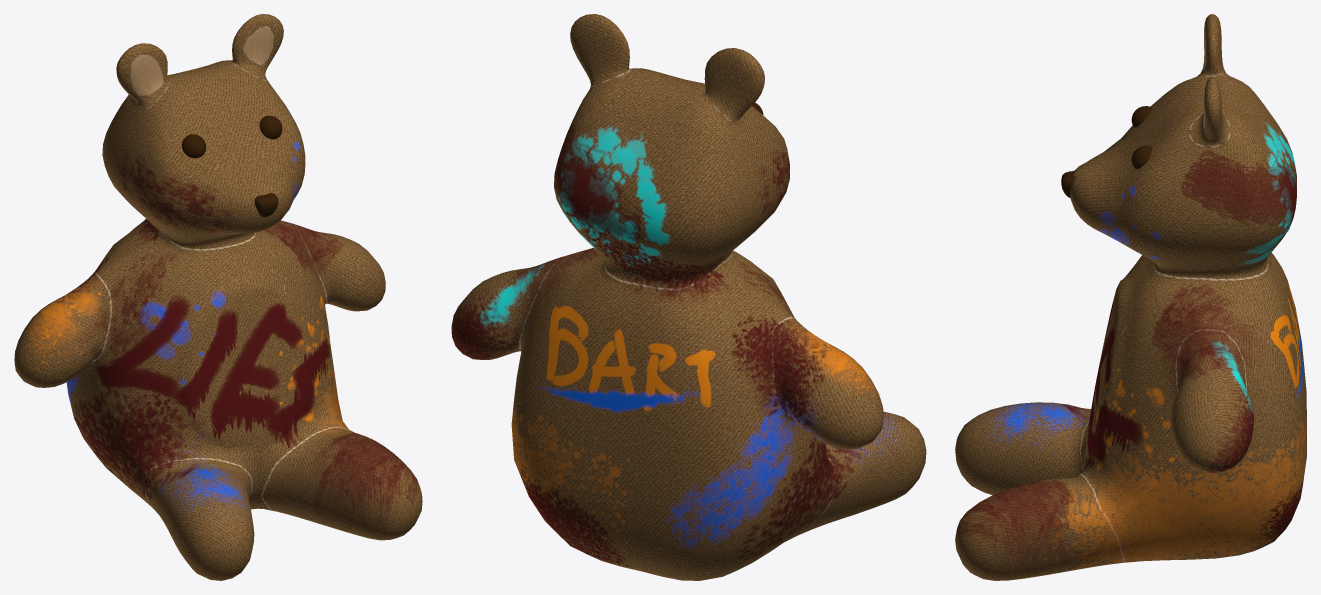
File: play_teddy.glb
3 renders of one model, left to right at view 1: azimuth 30°, elevation 25°; view 2: azimuth 150°, elevation 25°; view 3: azimuth 270°, elevation 25°, orthographic. The views are drawn at different scales.
Visible parts, largest first — view 1: TeddyBear; view 2: TeddyBear; view 3: TeddyBear.
Part boxes in pixels (<box>): TeddyBear: <box>14,14,422,580</box>; TeddyBear: <box>451,14,926,580</box>; TeddyBear: <box>955,14,1306,580</box>.
Size of the model in its own units: 80.4 by 96.4 by 62.68.
1 material, 1 textured.
